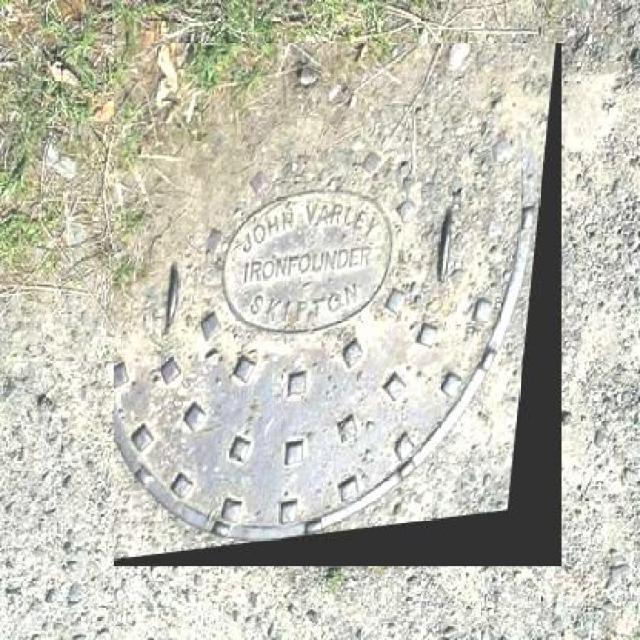Manhole: (114, 43, 562, 566)
